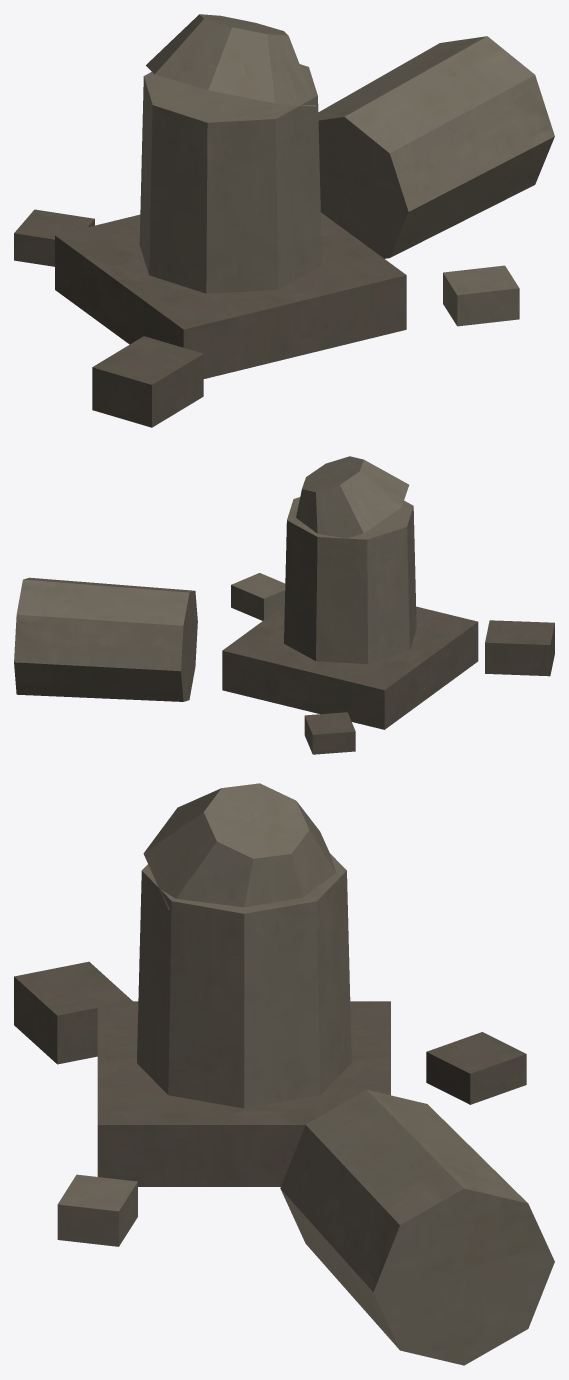
Rendered from rubble_pillar_01.glb.
3 views of the same model, one above another, from view 1: azimuth 30°, elevation 25°; view 2: azimuth 150°, elevation 25°; view 3: azimuth 270°, elevation 25° (orthographic). The views are drawn at different scales.
Visible parts, largest first — view 1: rubble_pillar_01; view 2: rubble_pillar_01; view 3: rubble_pillar_01.
Part boxes in pixels (x1,y1,x2,y2): rubble_pillar_01: [14, 14, 554, 427]; rubble_pillar_01: [14, 456, 554, 754]; rubble_pillar_01: [14, 783, 554, 1365].
Bounding box in the file's own units: 3.16 × 1.7 × 2.21.
Materials: 2 (2 with a texture image).
